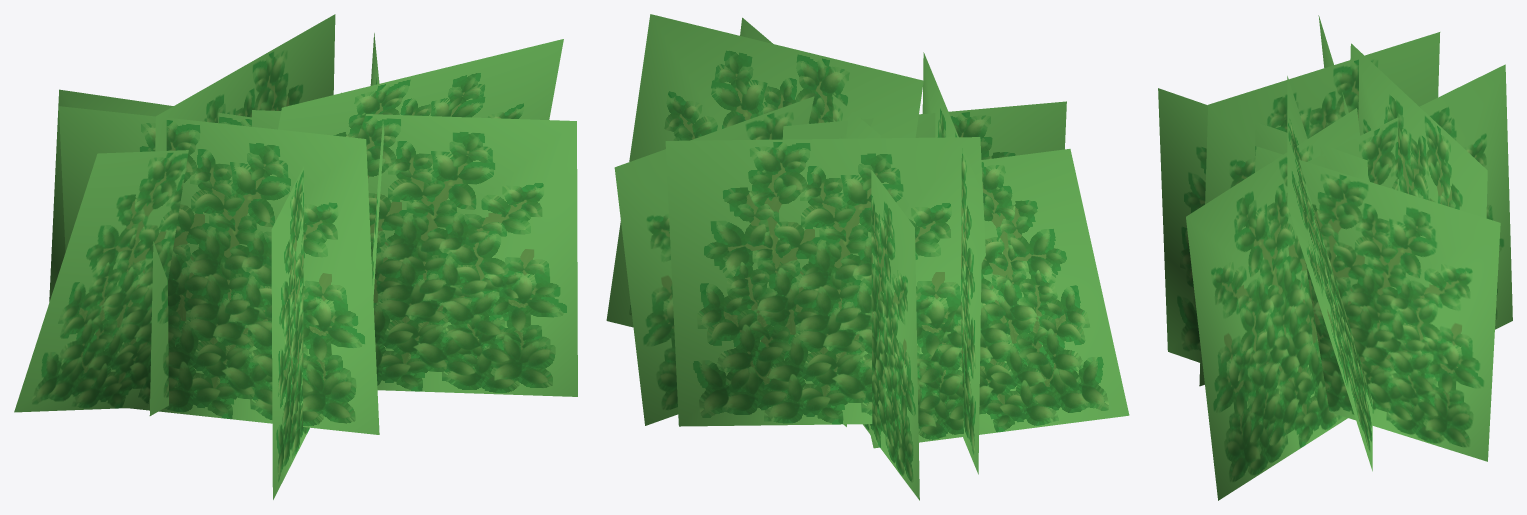
Rendered from bush_07.fbx.
3 views of the same model, side by side, from view 1: azimuth 30°, elevation 25°; view 2: azimuth 150°, elevation 25°; view 3: azimuth 270°, elevation 25° (orthographic). The views are drawn at different scales.
Parts seen in each view (by area): view 1: bush_07; view 2: bush_07; view 3: bush_07.
Boxes of the visible parts, x1=… form: bush_07: x1=14, y1=14, x2=577, y2=499; bush_07: x1=606, y1=14, x2=1129, y2=500; bush_07: x1=1158, y1=15, x2=1512, y2=500.
Bounding box in the file's own units: 263 × 162 × 164.
